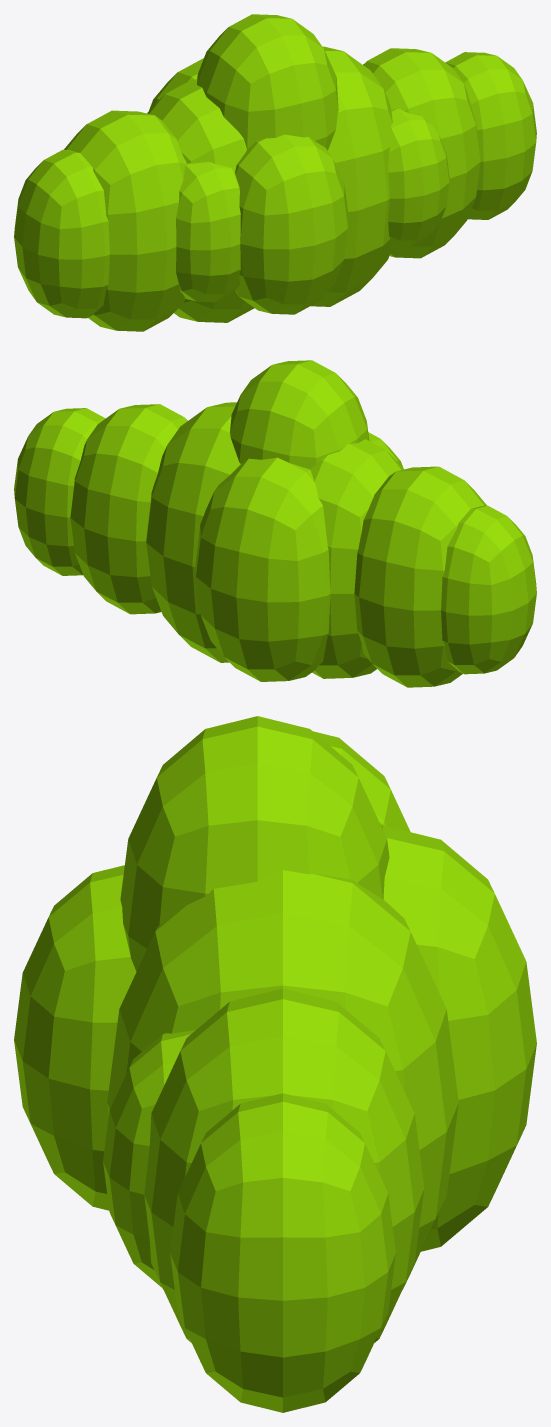
File: Pumya_A.fbx
3 views of the same model, one above another, from view 1: azimuth 30°, elevation 25°; view 2: azimuth 150°, elevation 25°; view 3: azimuth 270°, elevation 25° (orthographic). The views are drawn at different scales.
Parts seen in each view (by area): view 1: Cube.054; view 2: Cube.054; view 3: Cube.054.
Boxes of the visible parts, x1,y1,x2,y2 form: Cube.054: (14, 14, 536, 331); Cube.054: (14, 360, 536, 687); Cube.054: (14, 716, 536, 1412).
Size of the model in its own units: 9012 by 5126 by 4305.
